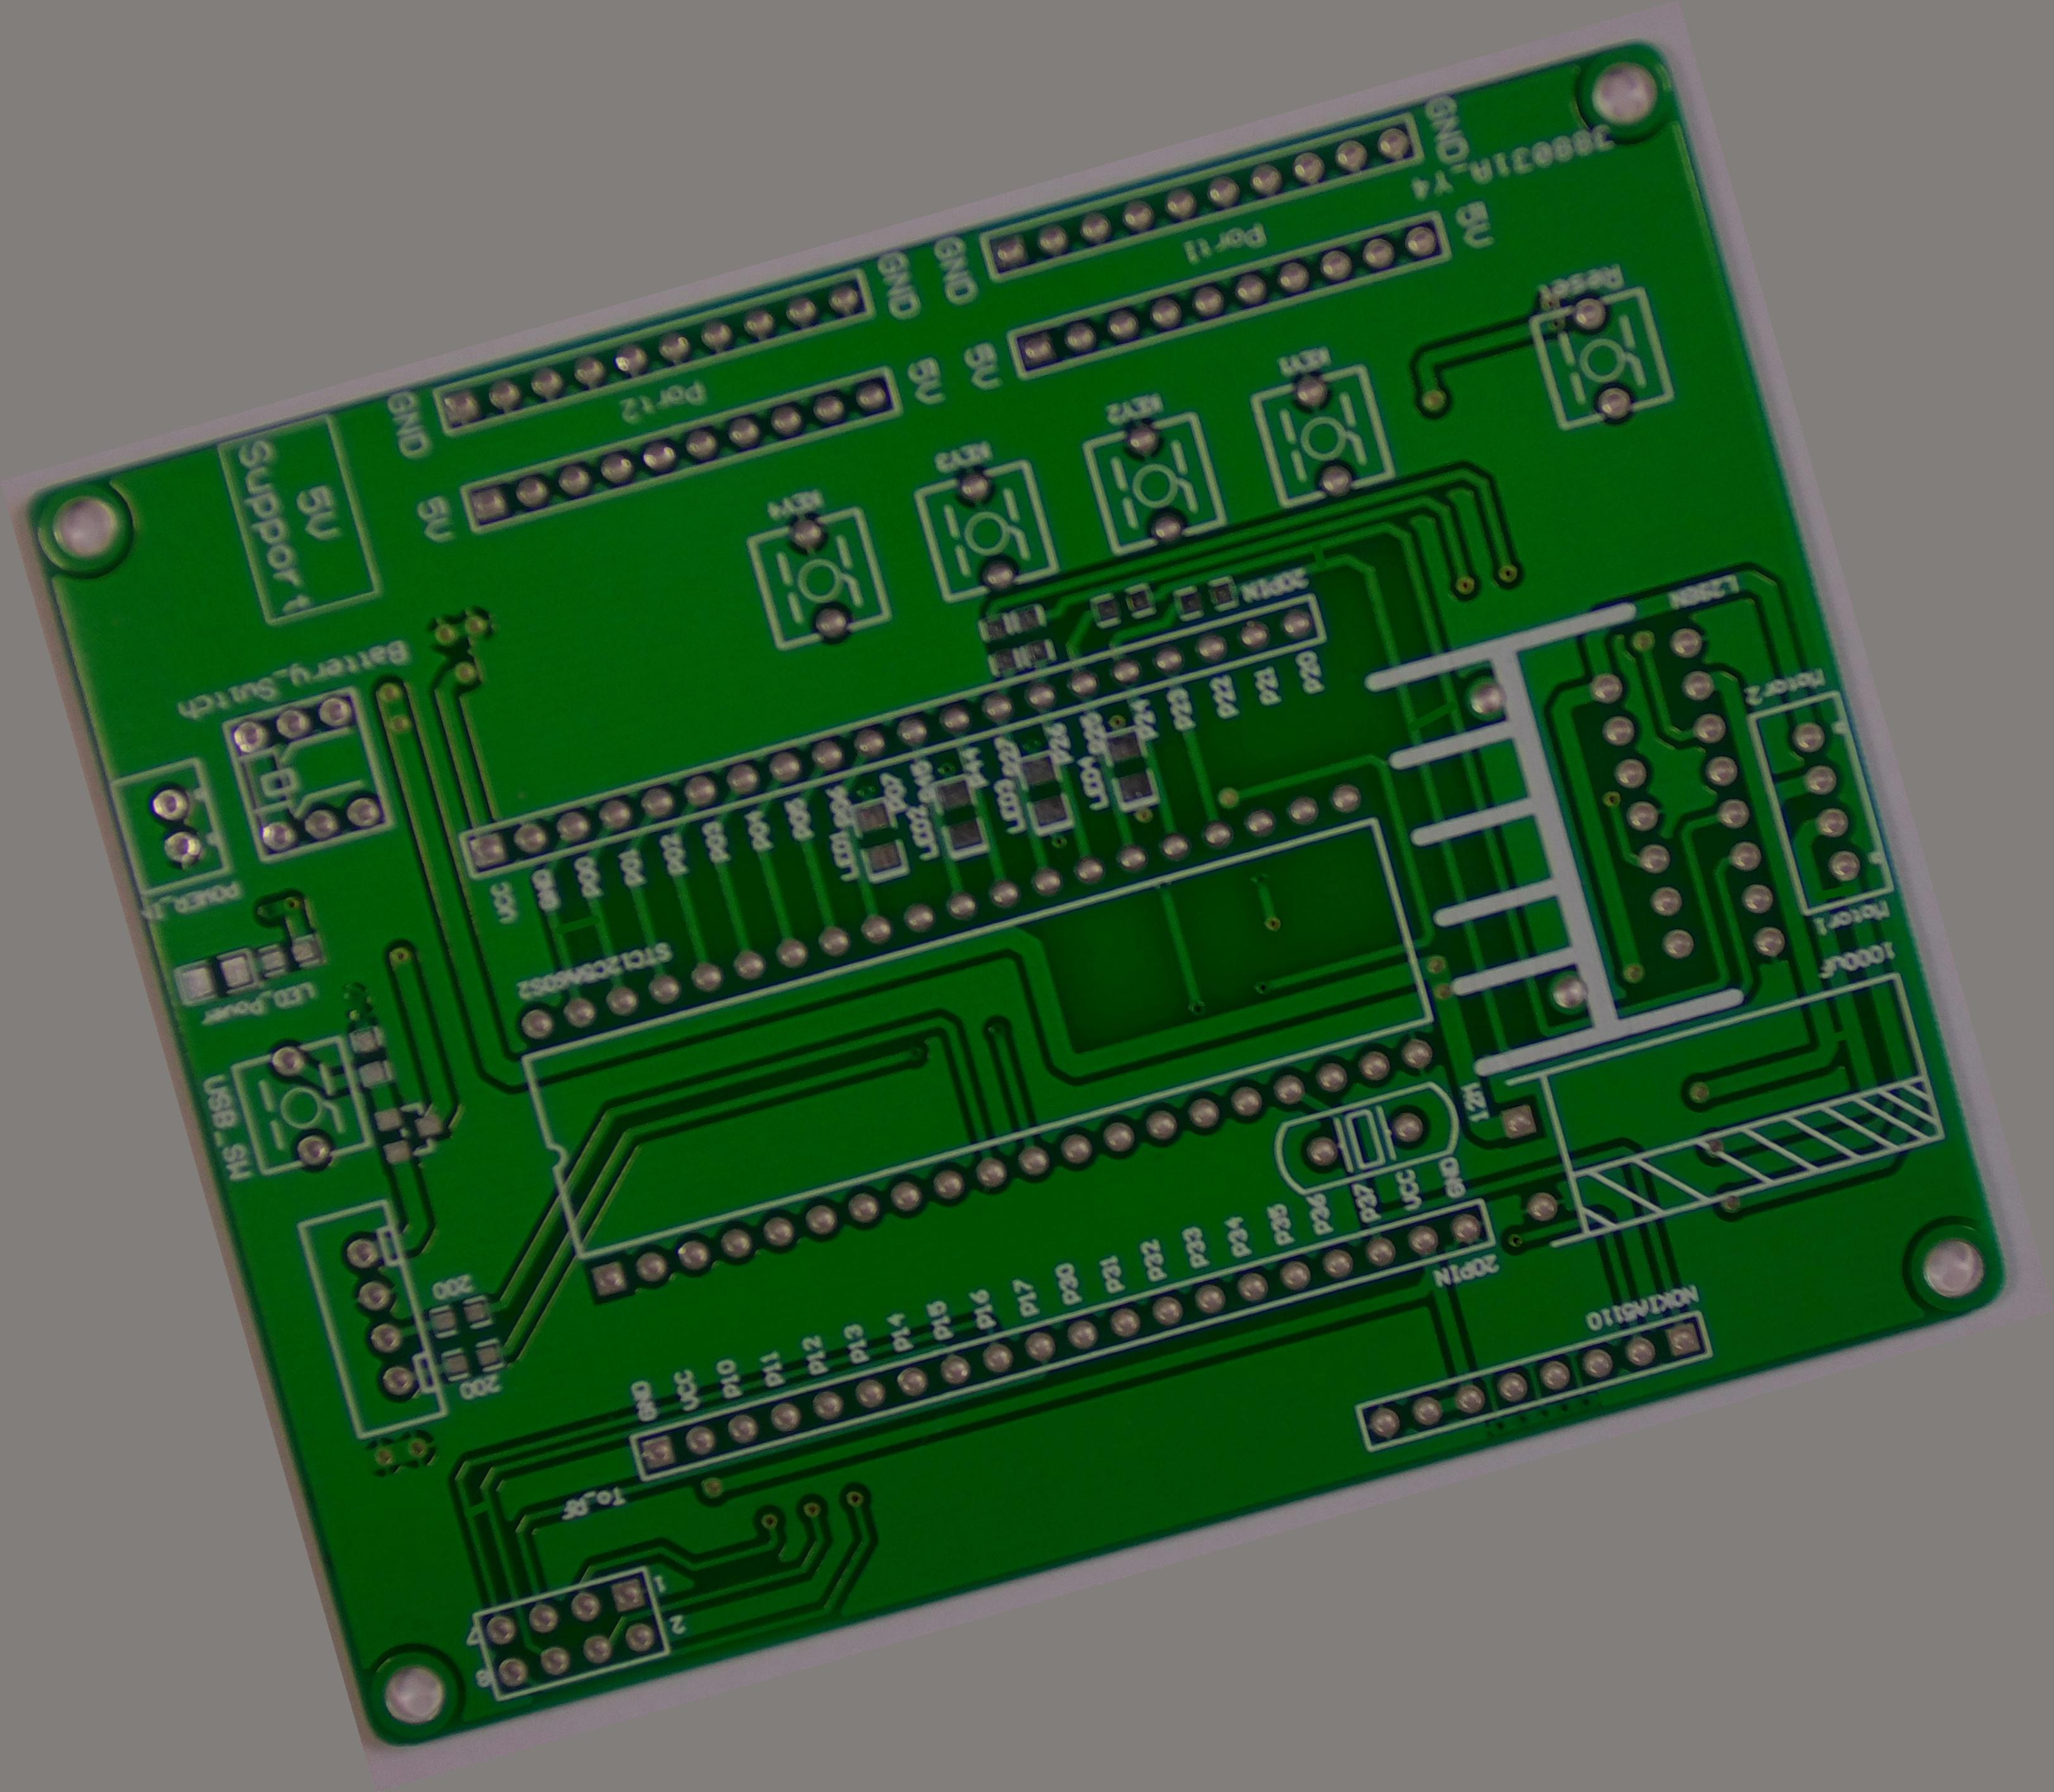short: (1387, 681, 1472, 755), (536, 884, 618, 957), (449, 1481, 507, 1537), (1811, 1011, 1871, 1064), (1291, 531, 1345, 585)
